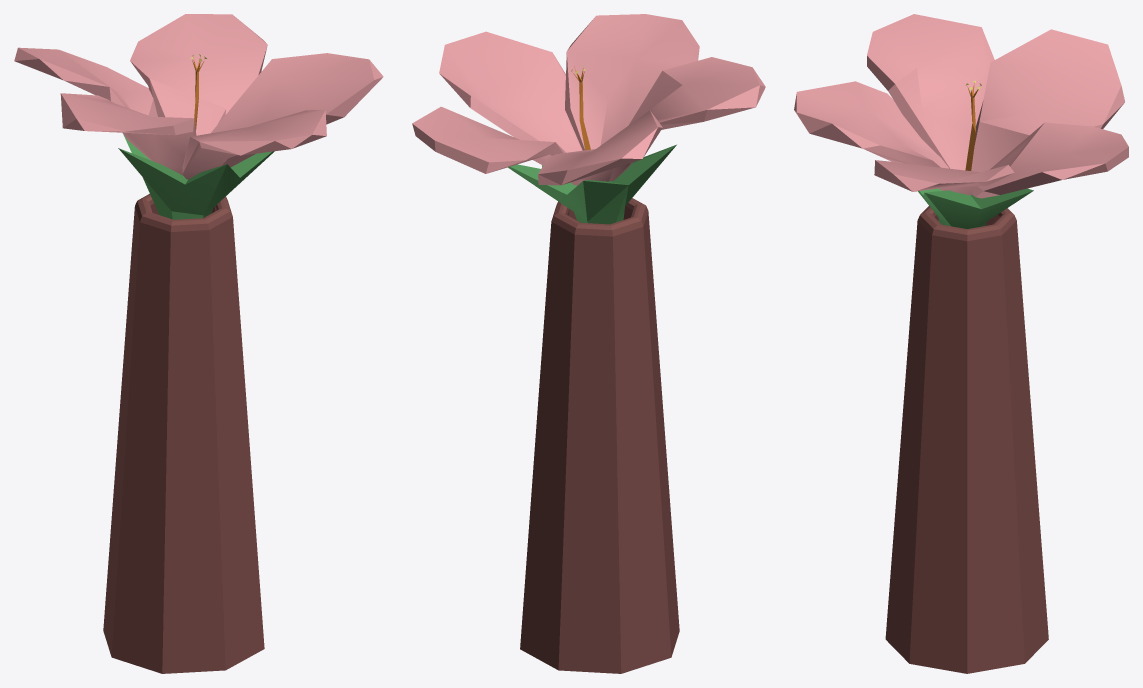
File: HibiscoRosa.fbx
3 renders of one model, left to right at view 1: azimuth 30°, elevation 25°; view 2: azimuth 150°, elevation 25°; view 3: azimuth 270°, elevation 25°, orthographic. The views are drawn at different scales.
Parts seen in each view (by area): view 1: HibiscoRosa; view 2: HibiscoRosa; view 3: HibiscoRosa.
Boxes of the visible parts, x1=… form: HibiscoRosa: x1=14, y1=14, x2=383, y2=673; HibiscoRosa: x1=412, y1=14, x2=765, y2=673; HibiscoRosa: x1=794, y1=14, x2=1128, y2=673.
Size of the model in its own units: 0.2237 by 0.3961 by 0.213.
